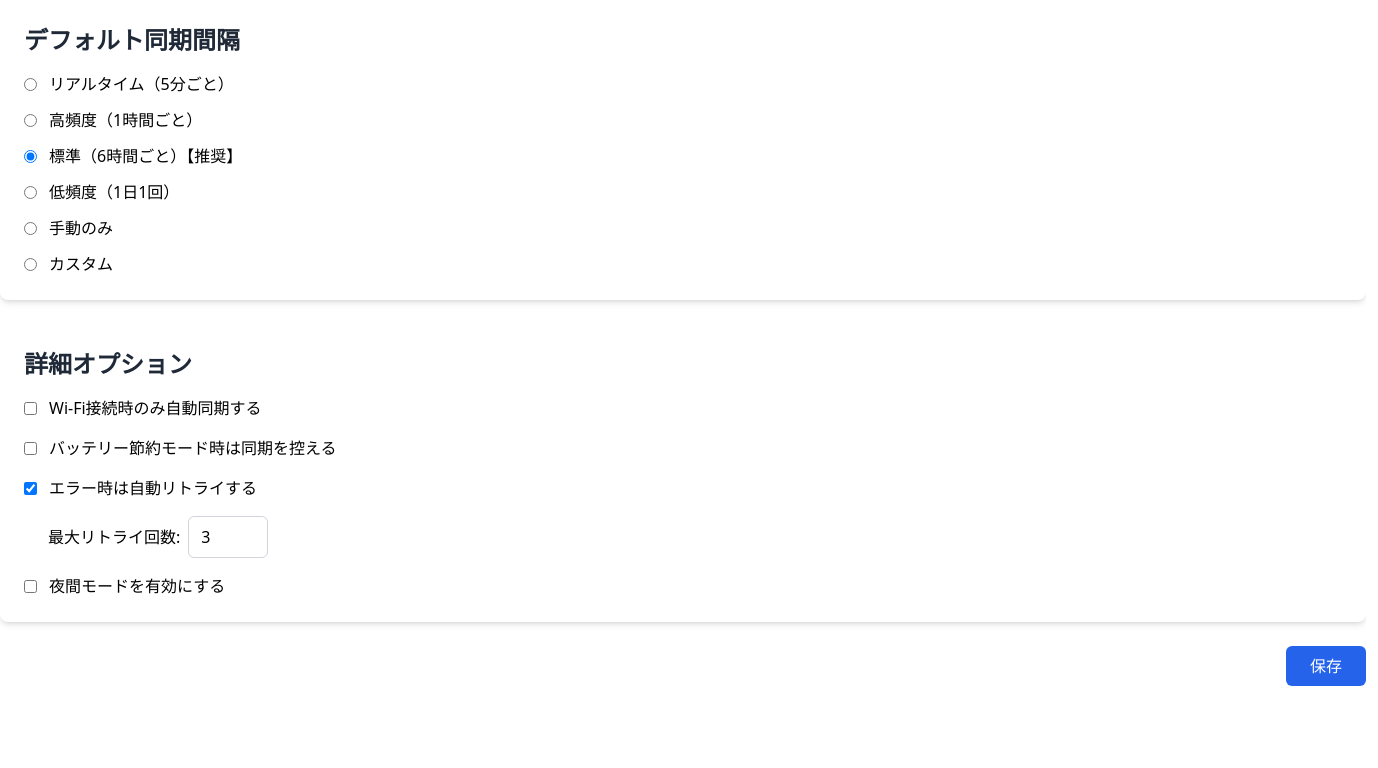
Test case: GlobalSettingsTab › 保存中は保存ボタンが無効化される
Check: the heading "デフォルト同期間隔" is shown, box 24,23 -> 240,56
Click the button "保存" at (1326, 666), box 1286,646 -> 1366,686
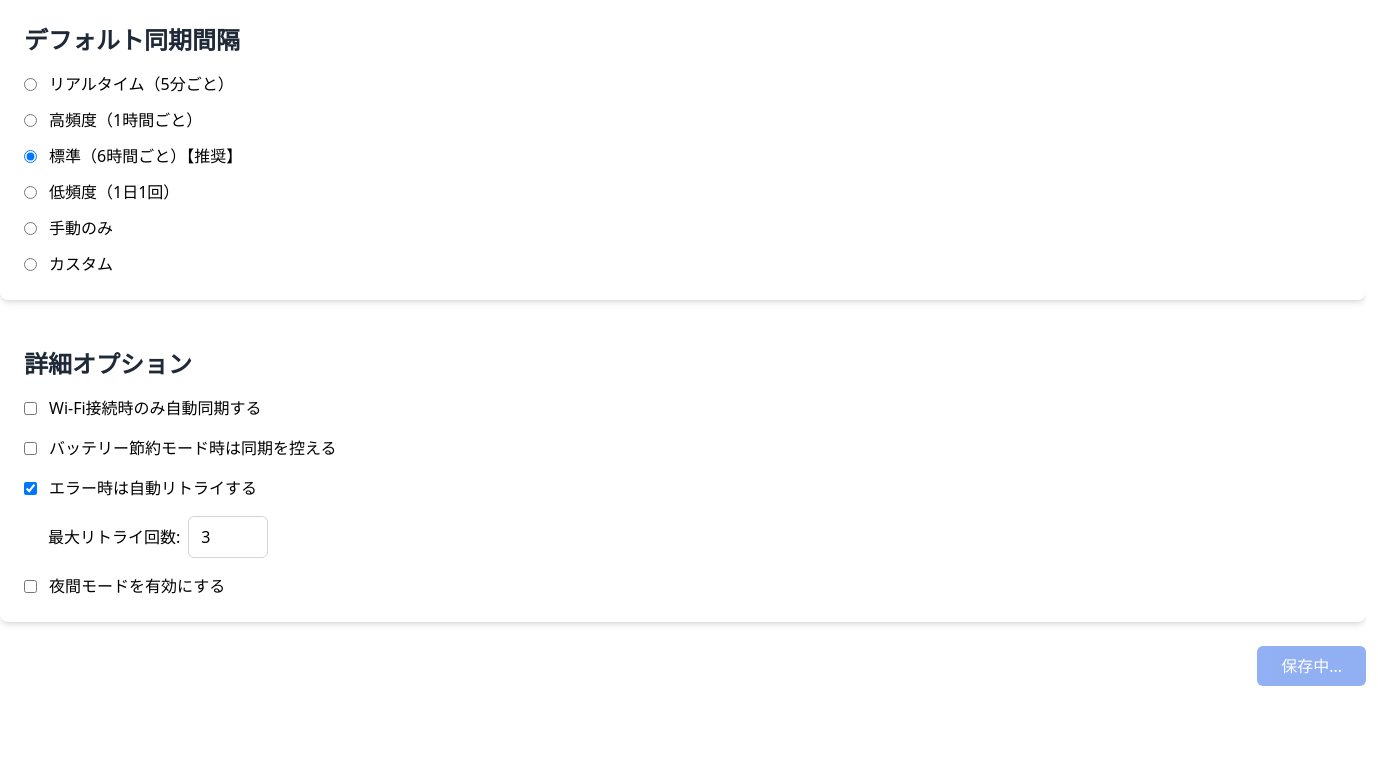
Check: the button "保存中..." is disabled, box 1257,646 -> 1366,686
